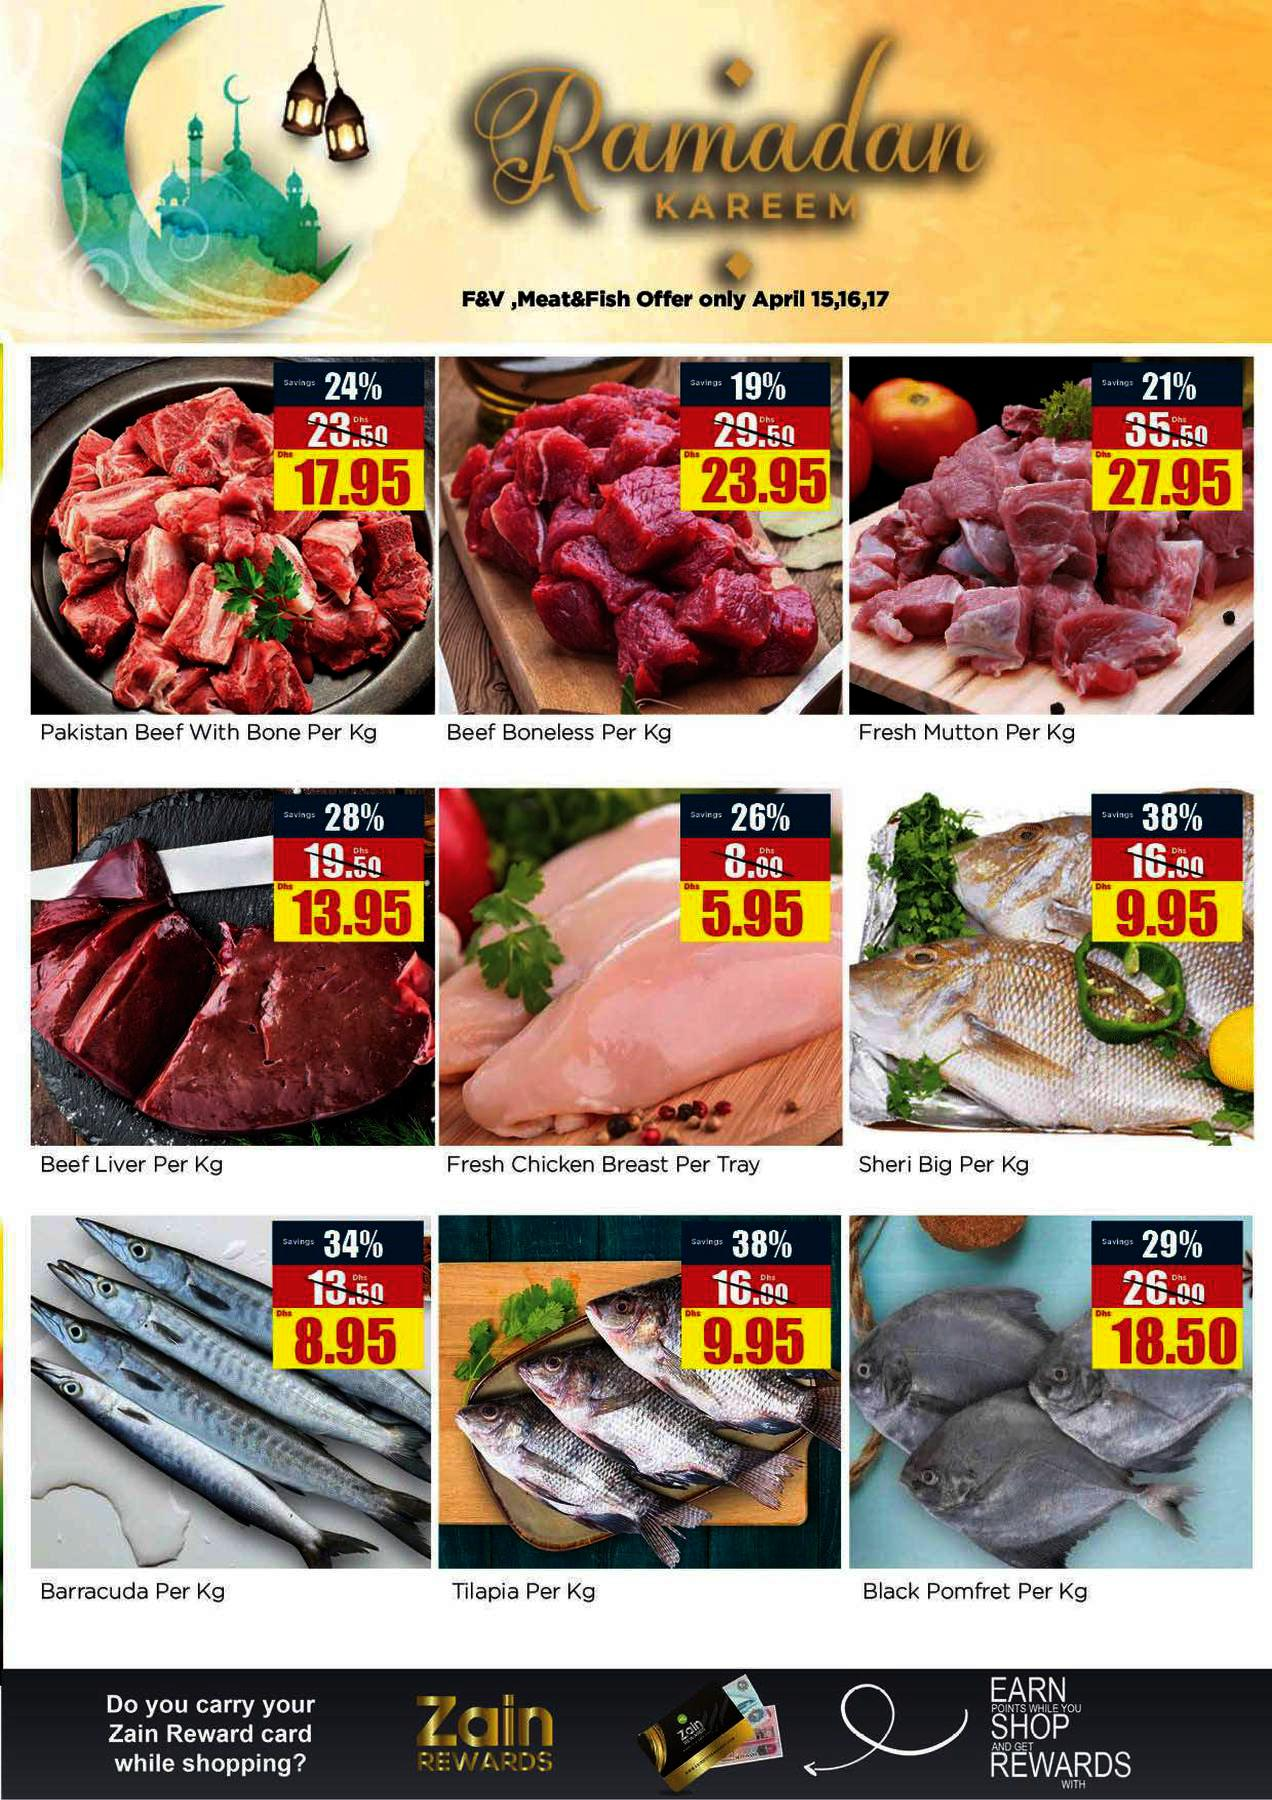text: (32, 711, 388, 753), (438, 1146, 778, 1185), (849, 1566, 1103, 1616), (852, 709, 1089, 756), (441, 711, 681, 754), (32, 1144, 240, 1189), (847, 1144, 1045, 1188), (442, 1572, 608, 1614)
